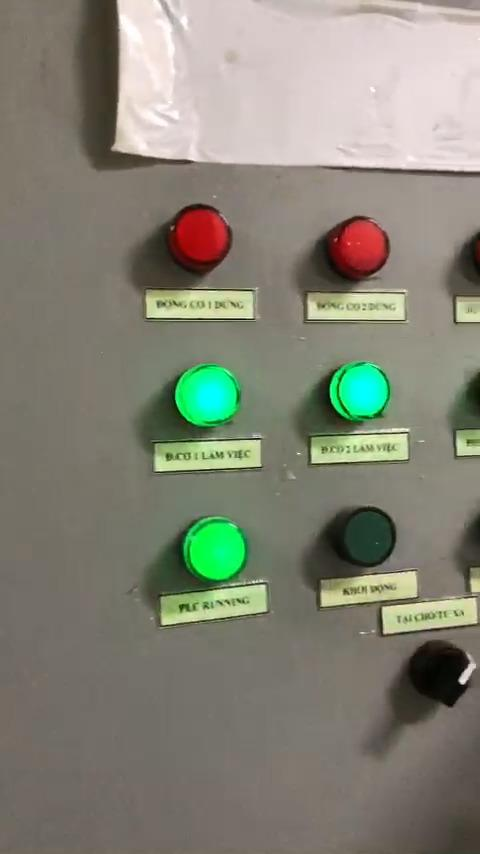led: (318, 216, 390, 283), (333, 502, 400, 570), (182, 515, 249, 582), (325, 355, 391, 422), (169, 203, 235, 269), (172, 364, 238, 424)
twist: (404, 639, 480, 709)
